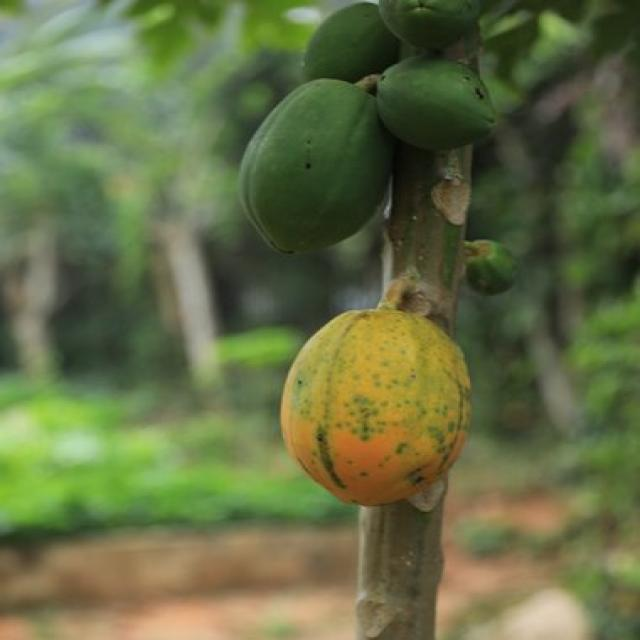Pepaya rippen: (276, 300, 484, 514)
Pepaya unrippen: (237, 68, 384, 255), (364, 55, 508, 144)
